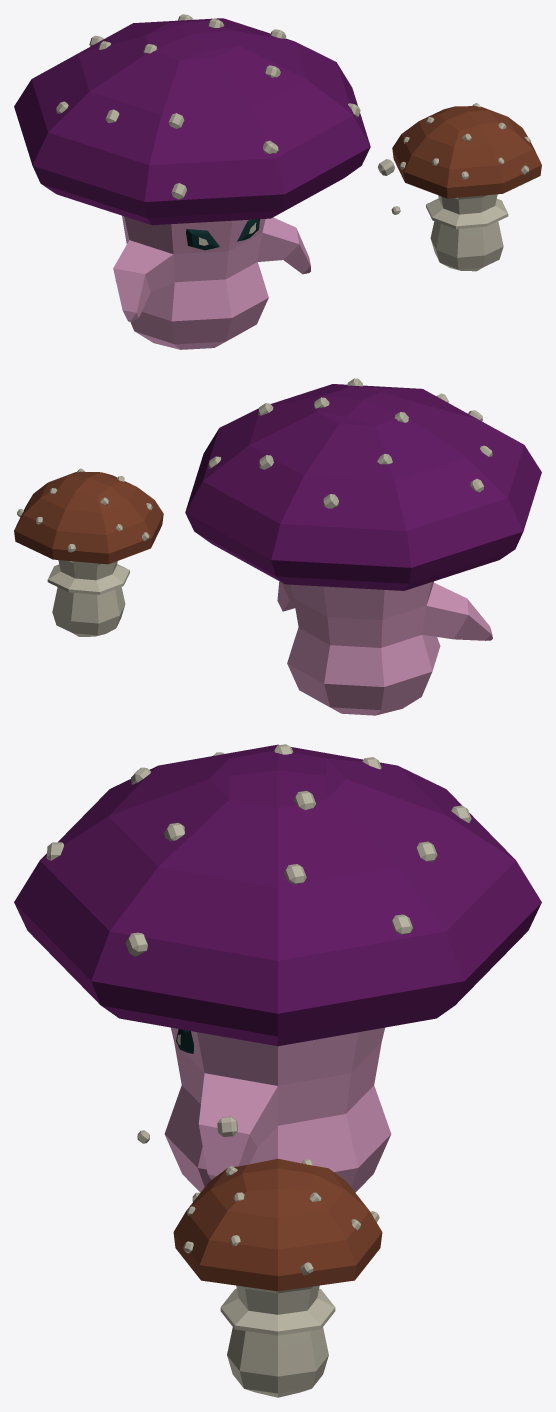
Rendered from Cogumelos.fbx.
3 renders of one model, top to bottom at view 1: azimuth 30°, elevation 25°; view 2: azimuth 150°, elevation 25°; view 3: azimuth 270°, elevation 25°, orthographic. The views are drawn at different scales.
Visible parts, largest first — view 1: MushBoss, Mushroom; view 2: MushBoss, Mushroom; view 3: MushBoss, Mushroom.
Part boxes in pixels (box(x1,y1,x2,y2)): MushBoss: box(14, 14, 370, 349); Mushroom: box(392, 103, 541, 271); MushBoss: box(185, 378, 541, 715); Mushroom: box(14, 468, 163, 636); MushBoss: box(14, 744, 541, 1192); Mushroom: box(173, 1158, 382, 1397).
Bounding box in the file's own units: 264 × 152 × 170.
